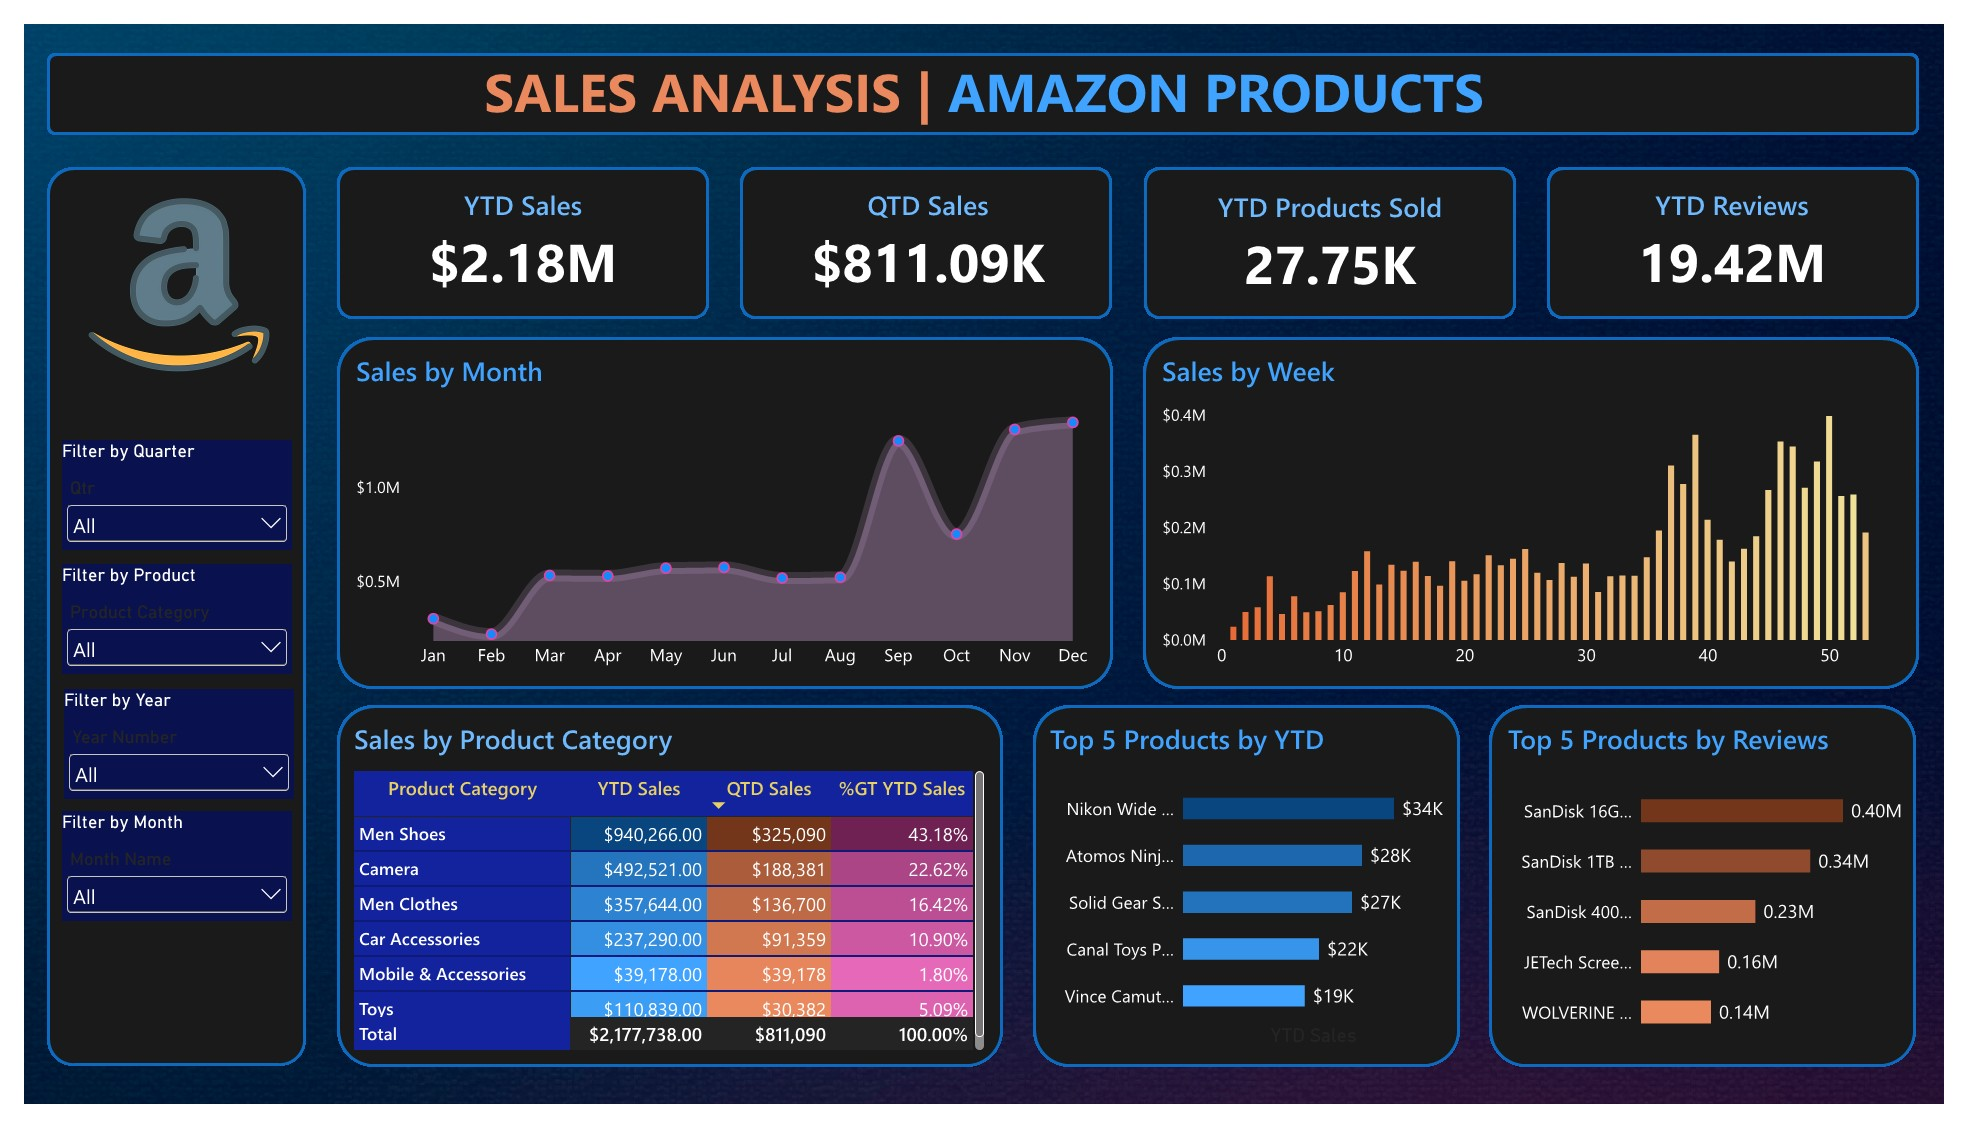

This screenshot's page, from the dashboard's own definition file:
{"tool":"powerbi","page":{"name":"Page 1","canvas":[1920,1080],"ordinal":0},"visuals":[{"type":"shape","box":[24,30,1870,80],"z":0},{"type":"shape","box":[314,144,370,150],"z":1000},{"type":"textbox","box":[386,30,1148,80],"z":2000},{"type":"cardVisual","fields":{"Data":["Amazon_Data.YTD SALES"]},"box":[314,144,370,148],"z":3000},{"type":"shape","box":[24.3,144.3,257.1,897.1],"z":4000},{"type":"shape","box":[717.3,144,370,150],"z":5000},{"type":"shape","box":[1120.7,144,370,150],"z":6000},{"type":"shape","box":[1524,144,370,150],"z":7000},{"type":"shape","box":[314,314,774,350],"z":8000},{"type":"cardVisual","fields":{"Data":["Amazon_Data.QTD Sales"]},"box":[720,144,368,148],"z":9000},{"type":"shape","box":[314,682,664,360],"z":10000},{"type":"cardVisual","fields":{"Data":["Amazon_Data.YTD Products Sold"]},"box":[1122,146,368,148],"z":11000},{"type":"areaChart","title":"Sales by Month","fields":{"Category":["Date Table.Month Name"],"Y":["Sum(Amazon_Data.Price(Dollar))"]},"box":[316,314,772,350],"z":12000},{"type":"cardVisual","fields":{"Data":["Amazon_Data.YTD Reviews"]},"box":[1524,144,368,148],"z":13000},{"type":"shape","box":[1120,314,774,350],"z":14000},{"type":"columnChart","title":"Sales by Week","fields":{"Category":["Date Table.Week"],"Y":["Sum(Amazon_Data.Price(Dollar))"]},"box":[1122,314,770,350],"z":15000},{"type":"pivotTable","title":"Sales by Product Category","fields":{"Rows":["Amazon_Data.Product Category"],"Values":["Amazon_Data.YTD Sales1","Amazon_Data.QTD Sales","Amazon_Data.YTD Sales"]},"box":[314,682,662,360],"z":16000},{"type":"shape","box":[1010,682,425,360],"z":17000},{"type":"shape","box":[1466,682,425,360],"z":18000},{"type":"clusteredBarChart","title":"Top 5 Products by YTD","fields":{"Category":["Amazon_Data.Product Description"],"Y":["Amazon_Data.YTD Sales"]},"box":[1010,682,426,356],"z":19000},{"type":"clusteredBarChart","title":"Top 5 Products by Reviews","fields":{"Category":["Amazon_Data.Product Description"],"Y":["Amazon_Data.YTD Reviews"]},"box":[1468,682,426,356],"z":20000},{"type":"slicer","title":"Filter by Product ","fields":{"Values":["Amazon_Data.Product Category"]},"box":[38,540,230,110],"z":21000},{"type":"slicer","title":"Filter by Quarter ","fields":{"Values":["Date Table.Qtr"]},"box":[38,416,230,110],"z":22000},{"type":"image","box":[38.6,168.6,230,192.9],"z":23000},{"type":"slicer","title":"Filter by Year ","fields":{"Values":["Date Table.Year Number"]},"box":[40.1,664.5,230,110],"z":24000},{"type":"slicer","title":"Filter by Month","fields":{"Values":["Date Table.Month Name"]},"box":[38.4,786.6,230,110],"z":24001}]}

Visuals, with their boxes in screenshot pixels (x1, y1, x2, y2), scaled from the page's 1920x1080 canvas onto the 1968x1128 screenshot:
shape: select_region(25, 31, 1941, 115)
shape: select_region(322, 150, 701, 307)
textbox: select_region(396, 31, 1572, 115)
cardVisual - Amazon_Data.YTD SALES: select_region(322, 150, 701, 305)
shape: select_region(25, 151, 288, 1088)
shape: select_region(735, 150, 1114, 307)
shape: select_region(1149, 150, 1528, 307)
shape: select_region(1562, 150, 1941, 307)
shape: select_region(322, 328, 1115, 694)
cardVisual - Amazon_Data.QTD Sales: select_region(738, 150, 1115, 305)
shape: select_region(322, 712, 1002, 1088)
cardVisual - Amazon_Data.YTD Products Sold: select_region(1150, 152, 1527, 307)
"Sales by Month" areaChart: select_region(324, 328, 1115, 694)
cardVisual - Amazon_Data.YTD Reviews: select_region(1562, 150, 1939, 305)
shape: select_region(1148, 328, 1941, 694)
"Sales by Week" columnChart: select_region(1150, 328, 1939, 694)
"Sales by Product Category" pivotTable: select_region(322, 712, 1000, 1088)
shape: select_region(1035, 712, 1471, 1088)
shape: select_region(1503, 712, 1938, 1088)
"Top 5 Products by YTD" clusteredBarChart: select_region(1035, 712, 1472, 1084)
"Top 5 Products by Reviews" clusteredBarChart: select_region(1505, 712, 1941, 1084)
"Filter by Product " slicer: select_region(39, 564, 275, 679)
"Filter by Quarter " slicer: select_region(39, 434, 275, 549)
image: select_region(40, 176, 275, 378)
"Filter by Year " slicer: select_region(41, 694, 277, 809)
"Filter by Month" slicer: select_region(39, 822, 275, 936)
